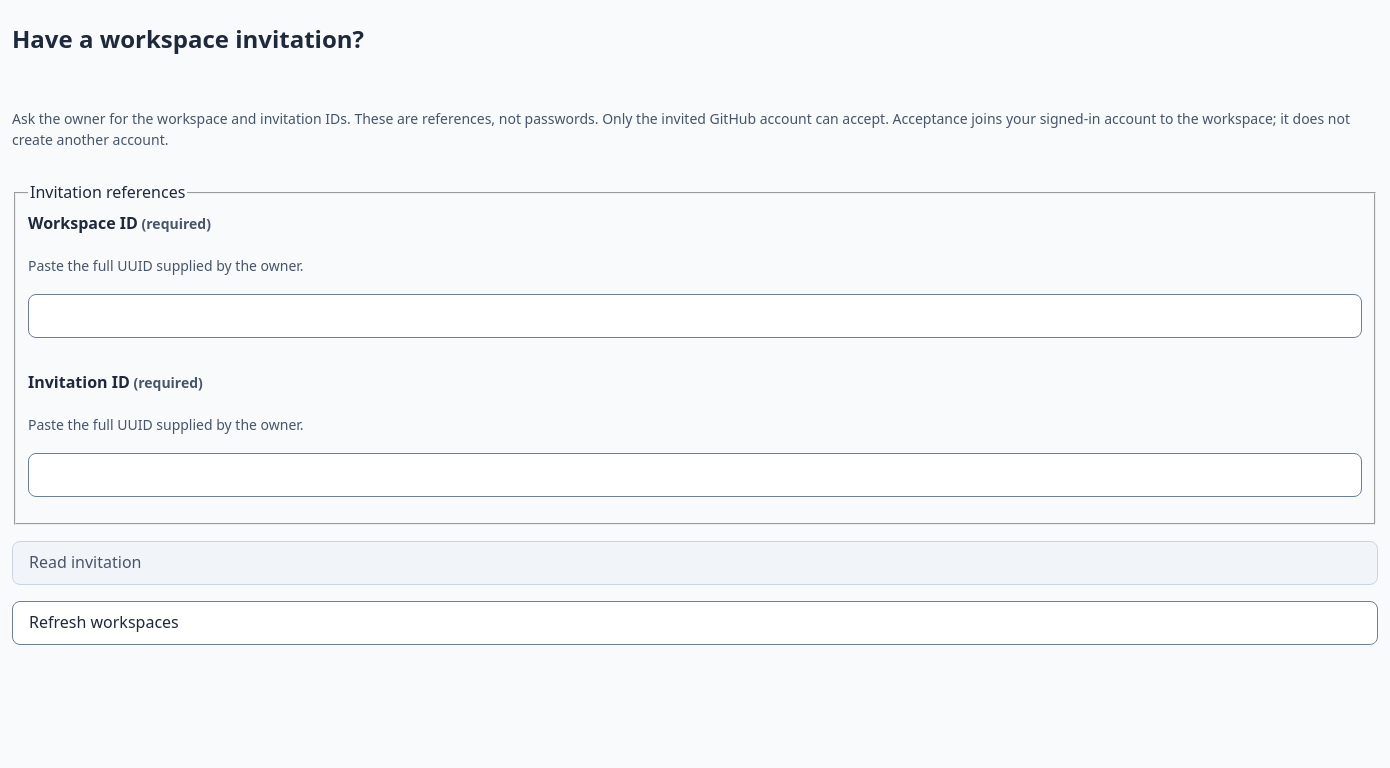
it: validates the offered role against the server role vocabulary: MAINTAINER
Type "11111111-1111-4111-8111-111111111111" into the field labelled "Workspace ID (required)" at (695, 316), box [28,294,1362,338]
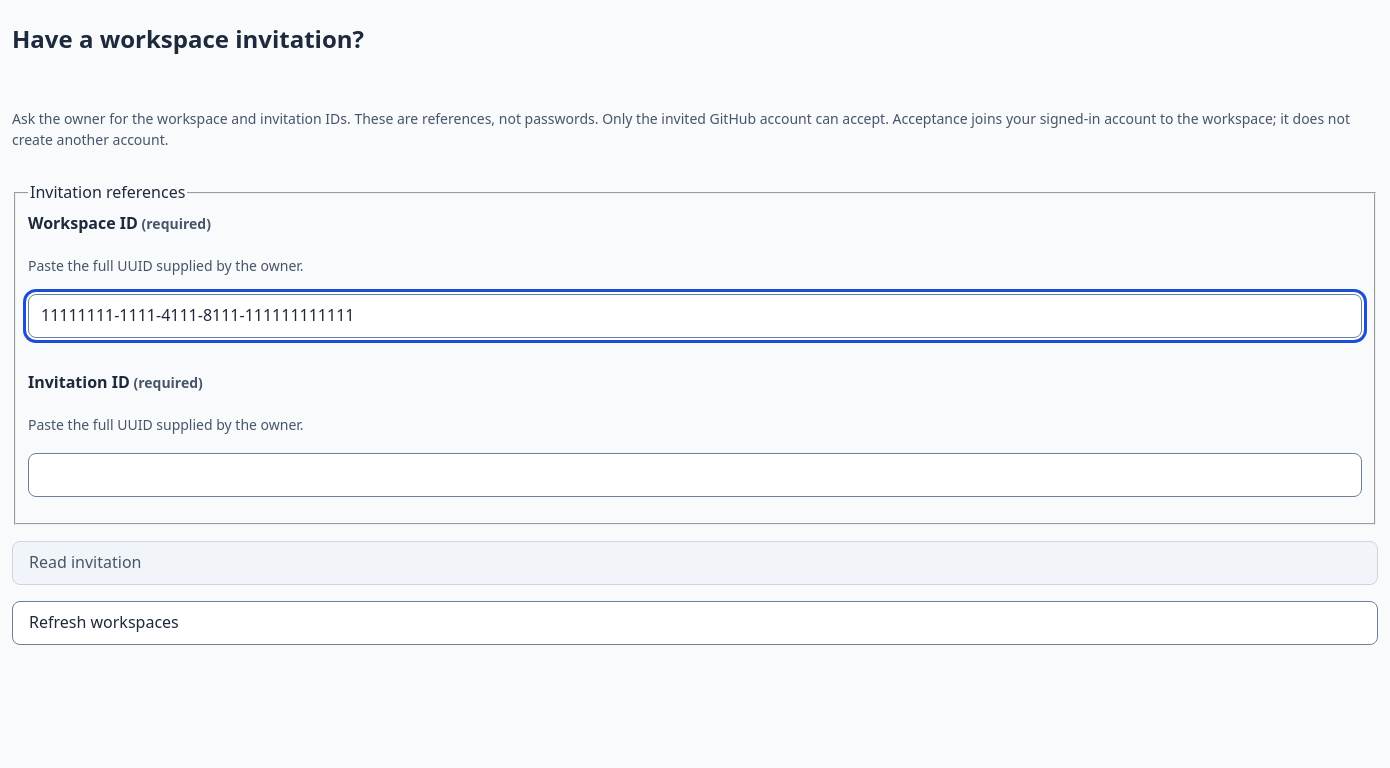
Type "22222222-2222-4222-8222-222222222222" into the field labelled "Invitation ID (required)" at (695, 475), box [28,453,1362,497]
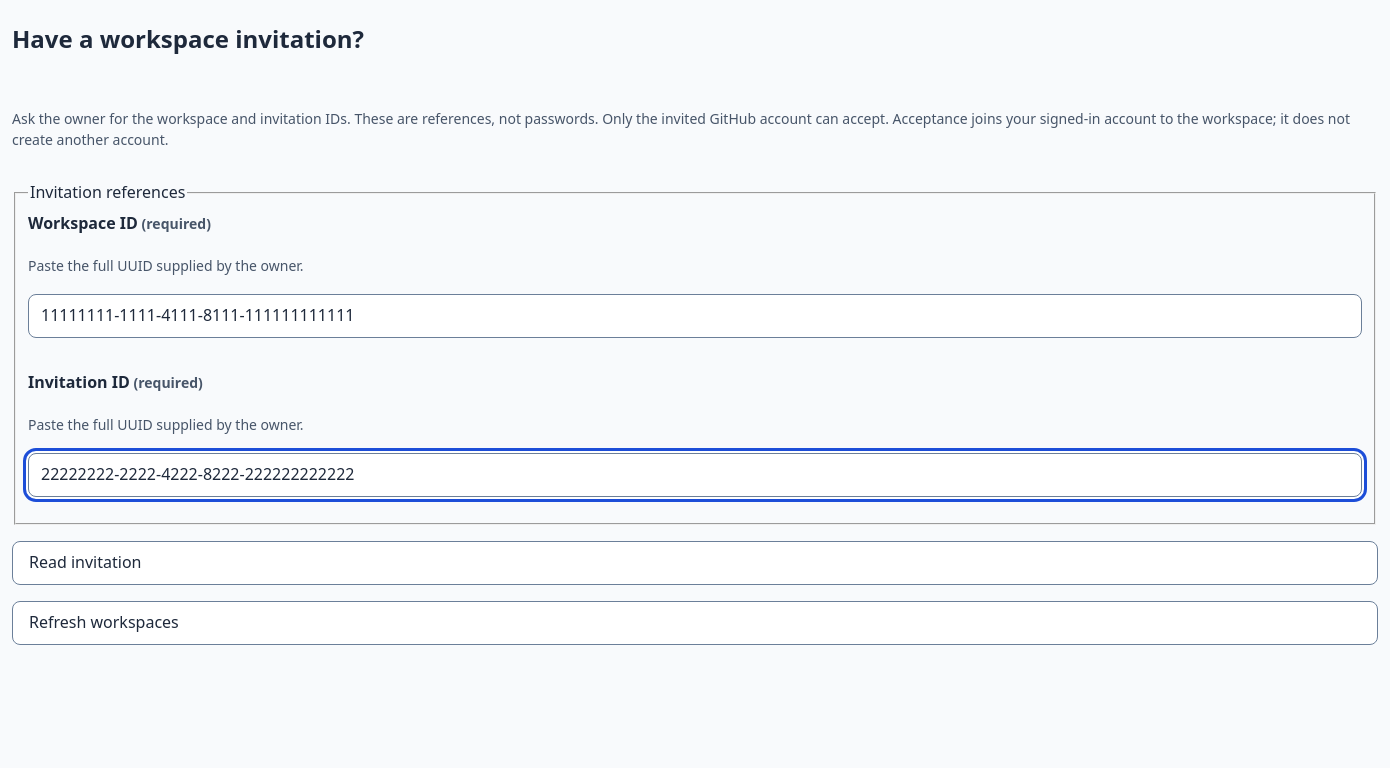
Click the button "Read invitation" at (85, 562), box [12,541,1378,585]
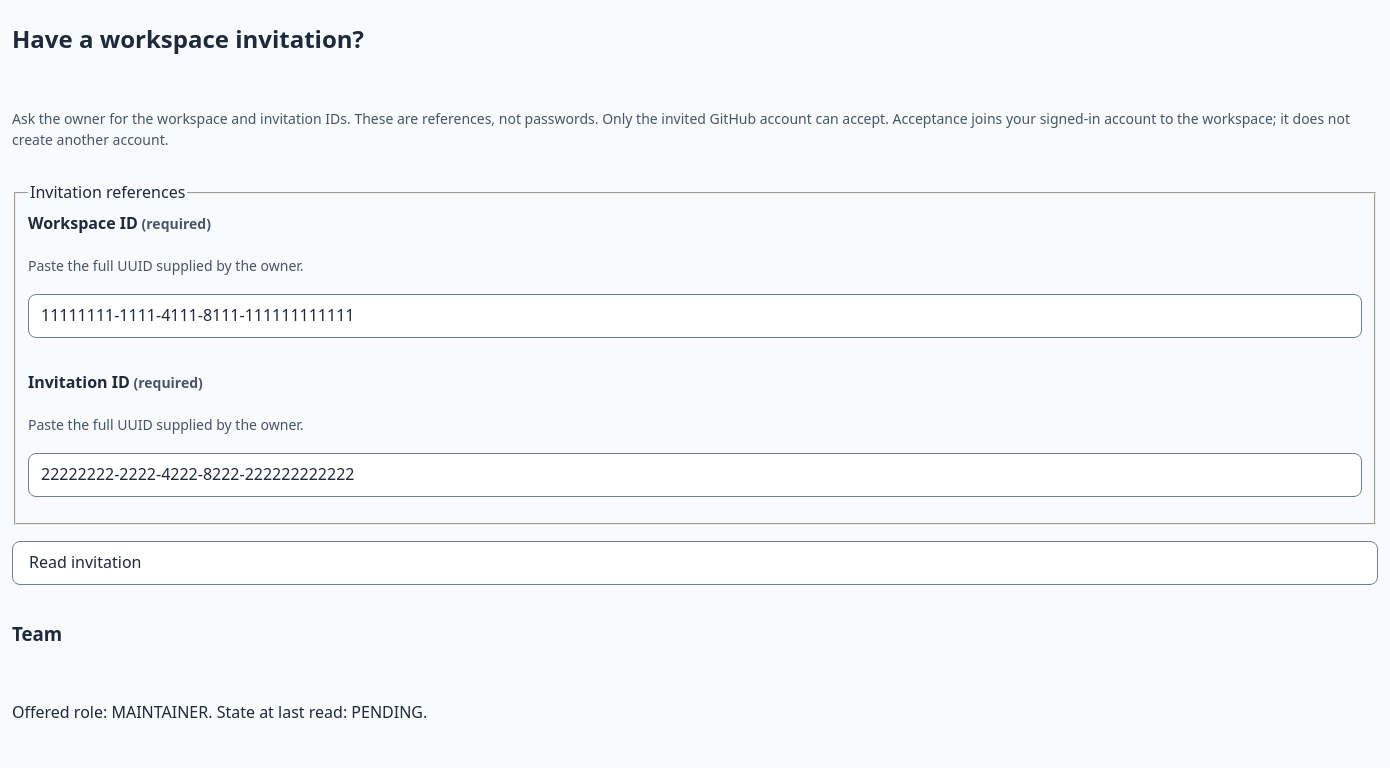
expect the text "Offered role: MAINTAINER. State at last read: PENDING." is shown: met, box [12,701,427,723]
